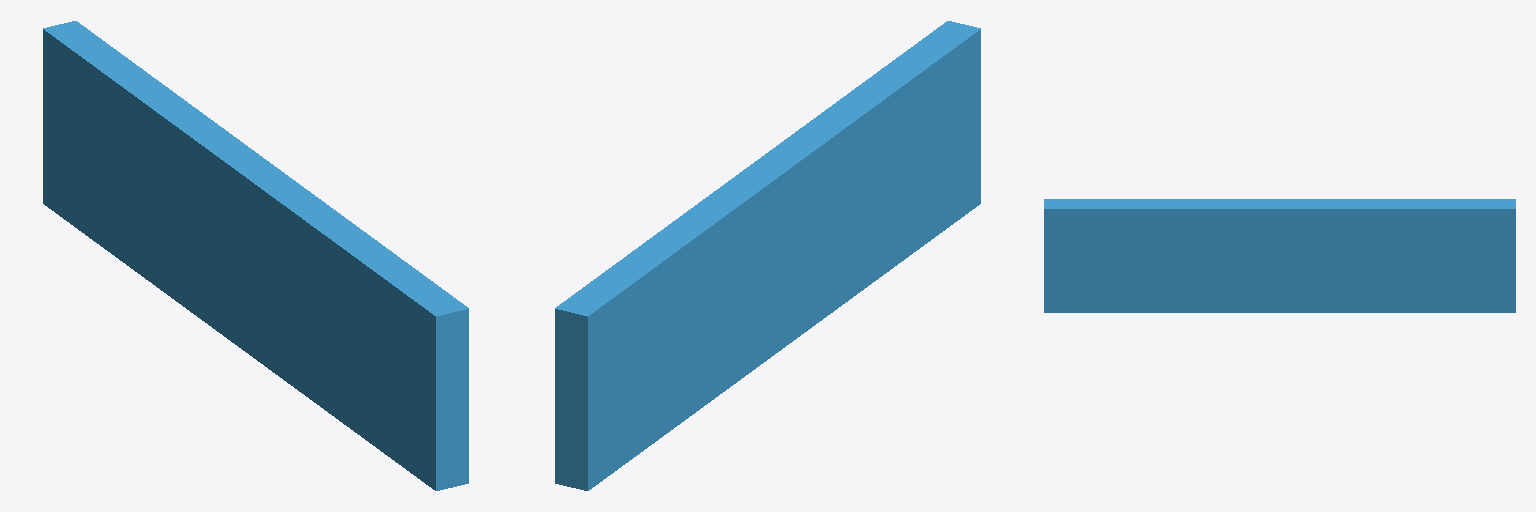
robot.urdf — box_53:
<?xml version="1.0" encoding="utf-8"?>    
    
    <robot name="box_53">
        <link name="box_53">    
            <fem>
                <origin rpy="0.0 0.0 0.0" xyz="0 0 0" />
                <density value="100" />
                <youngs value="10980"/>
                <poissons value="0.3"/>
                <damping value="0.0" /> 
                <attachDistance value="0.01"/>
                <tetmesh filename="../../../../Custom_mesh/physical_dvrk/multi_box_10kPa/box_53.tet"/>
                <scale value="1.0"/>
            </fem>
        </link>
        
        <link name="fix_frame">
            <visual>
                <origin xyz="-10.095 0.0 0.0"/>              
                <geometry>
                    <box size="0.005 0.102 0.025"/>
                </geometry>
            </visual>
            <collision>
                <origin xyz="-0.095 0.0 0.0"/>              
                <geometry>
                    <box size="0.005 0.102 0.025"/>
                </geometry>
            </collision>
            <inertial>
                <mass value="500000"/>
                <inertia ixx="0.05" ixy="0.0" ixz="0.0" iyy="0.05" iyz="0.0" izz="0.05"/>
            </inertial>
        </link>
        
        <joint name = "attach" type = "fixed">
            <origin xyz = "0.0 0.0 0.0" rpy = "0 0 0"/>
            <parent link = "box_53"/>
            <child link = "fix_frame"/>
        </joint>  
        
    </robot>
    

--- What the picture shows (computed from the rendered views, not written in the file) ---
The picture shows the robot from 3 angles, left to right: view 1: azimuth 30°, elevation 25°; view 2: azimuth 150°, elevation 25°; view 3: azimuth 270°, elevation 25°; orthographic projection.
Robot: box_53 — 2 links, 1 joints (1 fixed); root link box_53; default pose: every joint at zero.
Links seen in each view (by area): view 1: fix_frame; view 2: fix_frame; view 3: fix_frame.
Boxes of the visible links, x1,y1,x2,y2 form: fix_frame: (43, 21, 468, 490); fix_frame: (555, 21, 980, 490); fix_frame: (1044, 199, 1515, 312).
Size in the robot's own frame: 0.005 by 0.102 by 0.025 metres.
Geometry: primitives only (box / cylinder / sphere), no mesh files.